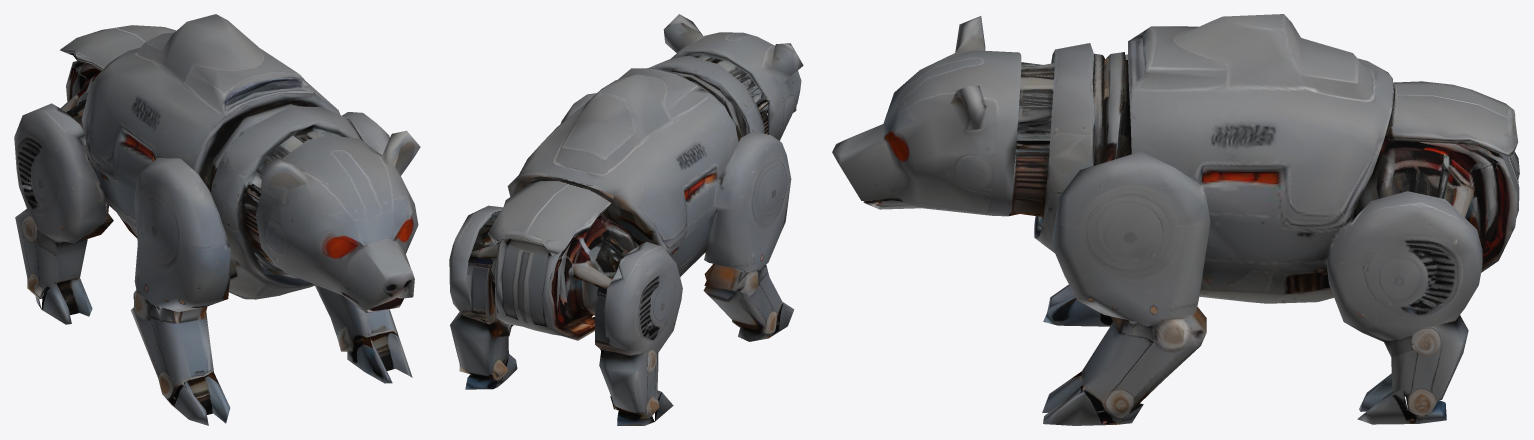
The model's file is bruno_robotic_bear.glb.
3 views of the same model, side by side, from view 1: azimuth 30°, elevation 25°; view 2: azimuth 150°, elevation 25°; view 3: azimuth 270°, elevation 25° (orthographic). The views are drawn at different scales.
Parts seen in each view (by area): view 1: tripo_node_a9cd48d7; view 2: tripo_node_a9cd48d7; view 3: tripo_node_a9cd48d7.
Part boxes in pixels (bbox=[...]): tripo_node_a9cd48d7: bbox=[14, 14, 420, 425]; tripo_node_a9cd48d7: bbox=[449, 14, 803, 425]; tripo_node_a9cd48d7: bbox=[832, 14, 1519, 425].
Bounding box in the file's own units: 0.4399 × 0.5622 × 0.9992.
Materials: 1 (1 with a texture image).
